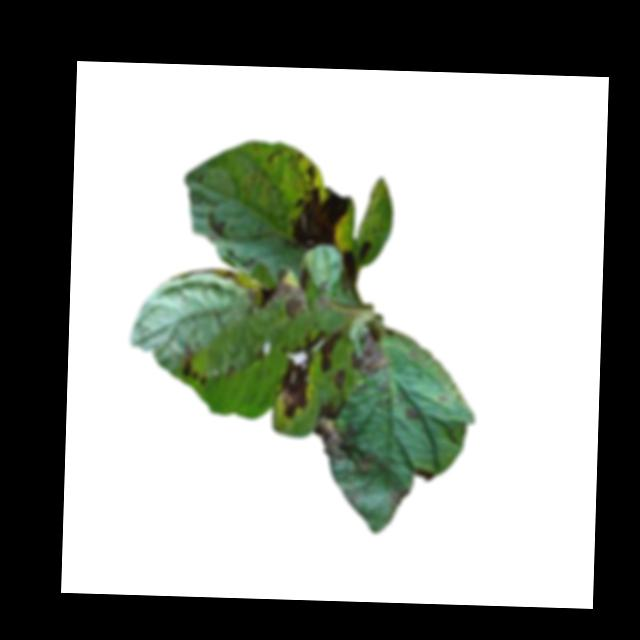Early_blight: (291, 187, 351, 248), (310, 421, 380, 473), (273, 354, 312, 421), (293, 328, 342, 373), (350, 323, 387, 381), (271, 276, 310, 317), (178, 356, 207, 387), (315, 398, 346, 422), (299, 161, 318, 185), (357, 241, 373, 264), (388, 490, 408, 508), (332, 371, 343, 392), (403, 409, 418, 420)
